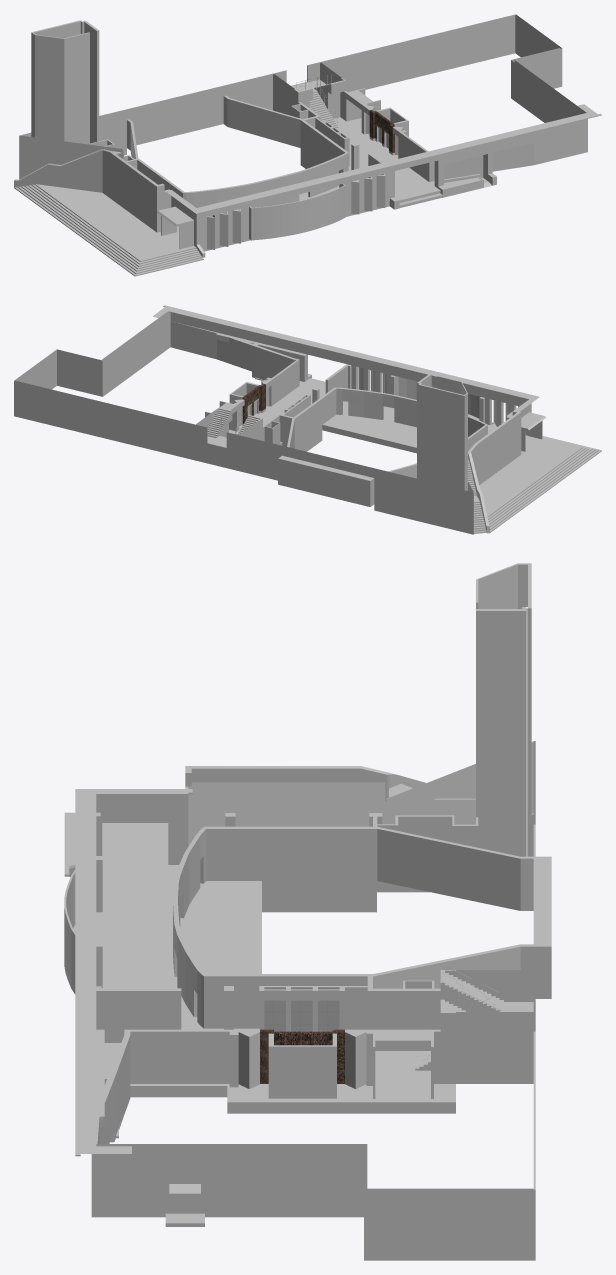
File: map-E(main)3.fbx
3 views of the same model, one above another, from view 1: azimuth 30°, elevation 25°; view 2: azimuth 150°, elevation 25°; view 3: azimuth 270°, elevation 25° (orthographic). The views are drawn at different scales.
Visible parts, largest first — view 1: Dummy, _1stfloor, SideStairDiagoanlwall, Out1stStair, SideStairwall6, OutDiagonalRail, OutLeft1stwall, OutDiagonalwall, OutFrontRightwall, SideStairwall5, AuditoriumRightwall, FlowerBedDiagonalwall2 (+17 smaller); view 2: Dummy, _1stfloor, SideStairwall2, Out1stStair, OutLeft1stwall, CenterStairwall, OutFrontRightwall, AuditoriumRightwall, FlowerBedDiagonalwall2, FlowerBedDiagonalwall, FrontDoorRightwall, AuditoriumFrontwall11 (+11 smaller); view 3: Dummy, _1stfloor, SideStairwall5, OutLeft1stwall, AuditoriumLeftwall, CenterStairRightwall, FrontDoorRightwall, FrontDoorLeftwall, Elevator, AuditoriumRightwall, B1wall3, _2ndOutRail (+18 smaller).
Boxes of the visible parts, x1=… form: Dummy: x1=19, y1=14, x2=601, y2=219; _1stfloor: x1=35, y1=117, x2=437, y2=261; SideStairDiagoanlwall: x1=35, y1=34, x2=64, y2=141; Out1stStair: x1=14, y1=184, x2=203, y2=276; SideStairwall6: x1=64, y1=32, x2=89, y2=144; OutDiagonalRail: x1=14, y1=149, x2=102, y2=192; OutLeft1stwall: x1=102, y1=155, x2=157, y2=232; OutDiagonalwall: x1=20, y1=135, x2=123, y2=178; OutFrontRightwall: x1=534, y1=124, x2=587, y2=164; SideStairwall5: x1=84, y1=21, x2=99, y2=145; AuditoriumRightwall: x1=302, y1=120, x2=347, y2=173; FlowerBedDiagonalwall2: x1=492, y1=143, x2=534, y2=171; Dummy: x1=14, y1=305, x2=539, y2=534; _1stfloor: x1=229, y1=380, x2=582, y2=517; SideStairwall2: x1=418, y1=384, x2=465, y2=490; Out1stStair: x1=488, y1=436, x2=601, y2=532; OutLeft1stwall: x1=472, y1=419, x2=521, y2=484; CenterStairwall: x1=195, y1=425, x2=239, y2=470; OutFrontRightwall: x1=170, y1=321, x2=217, y2=359; AuditoriumRightwall: x1=294, y1=388, x2=336, y2=443; FlowerBedDiagonalwall2: x1=217, y1=335, x2=253, y2=371; FlowerBedDiagonalwall: x1=255, y1=345, x2=293, y2=380; FrontDoorRightwall: x1=272, y1=360, x2=298, y2=404; AuditoriumFrontwall11: x1=364, y1=390, x2=383, y2=419; Dummy: x1=75, y1=741, x2=551, y2=1260; _1stfloor: x1=73, y1=823, x2=455, y2=1113; SideStairwall5: x1=476, y1=609, x2=522, y2=856; OutLeft1stwall: x1=188, y1=782, x2=475, y2=846; AuditoriumLeftwall: x1=206, y1=826, x2=377, y2=880; CenterStairRightwall: x1=456, y1=1012, x2=533, y2=1083; FrontDoorRightwall: x1=130, y1=1029, x2=229, y2=1083; FrontDoorLeftwall: x1=96, y1=988, x2=181, y2=1042; Elevator: x1=268, y1=1033, x2=336, y2=1098; AuditoriumRightwall: x1=206, y1=974, x2=367, y2=1028; B1wall3: x1=262, y1=881, x2=372, y2=912; _2ndOutRail: x1=185, y1=766, x2=386, y2=801.
Bounding box in the file's own units: 7066 × 2081 × 3171.
